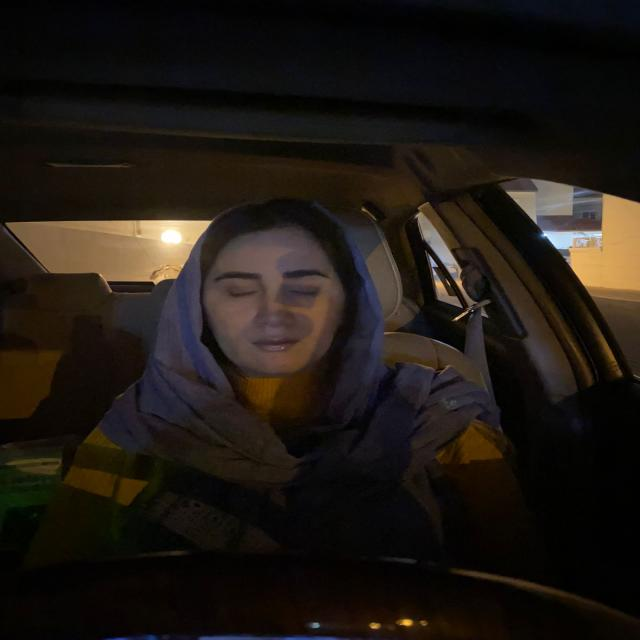drowsy: (191, 195, 371, 378)
